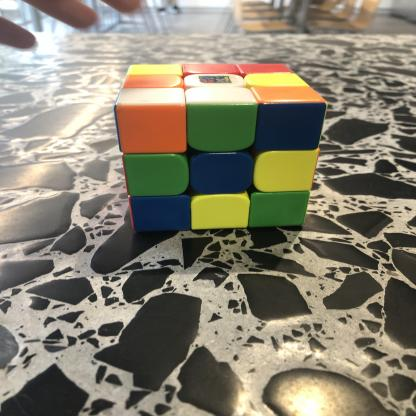UnsolvedCube: (111, 53, 336, 239)
